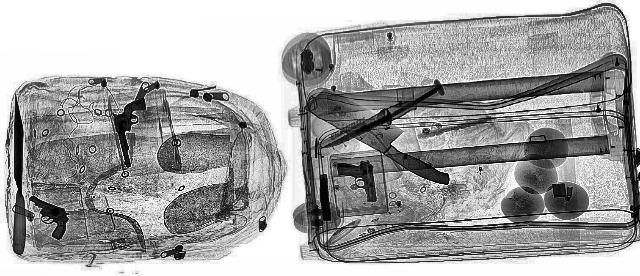Gun: (0, 197, 101, 237), (109, 98, 157, 168), (334, 160, 378, 202), (315, 174, 333, 220)
Knife: (284, 89, 484, 187), (318, 87, 448, 151), (302, 96, 430, 152), (8, 94, 28, 254)
